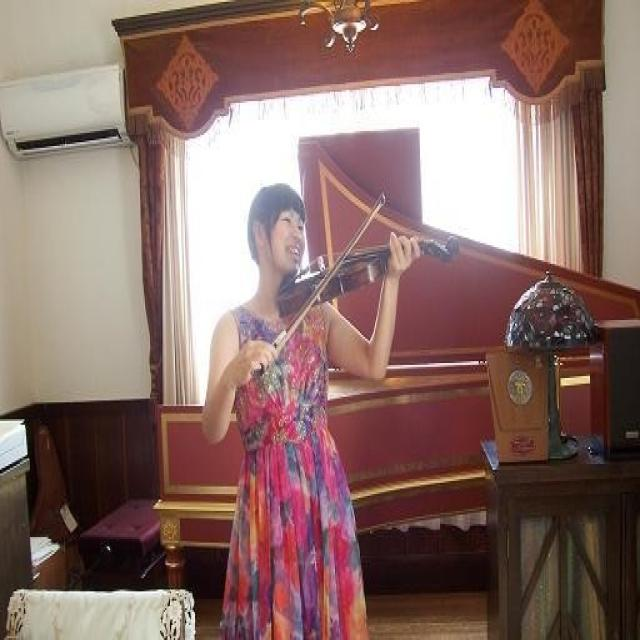violin: (274, 233, 462, 320)
